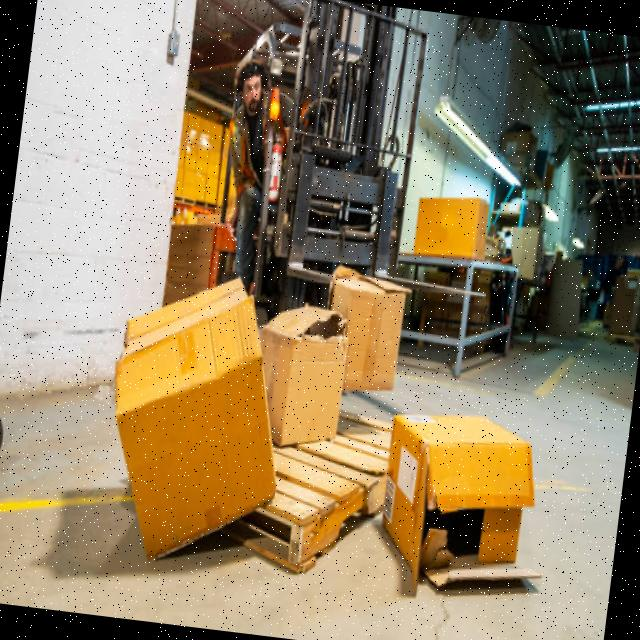Wooden-Pallets: (219, 463, 387, 573)
